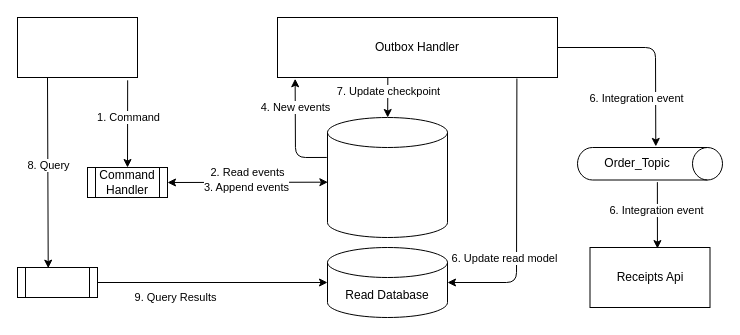
Image size: 740x335. Some labels were removed from this diagram. Each missing label, with the box of its shape:
Event Store Database: (326, 116, 448, 238)
Kitchen Api: (16, 16, 138, 78)
Repository: (16, 266, 98, 298)
